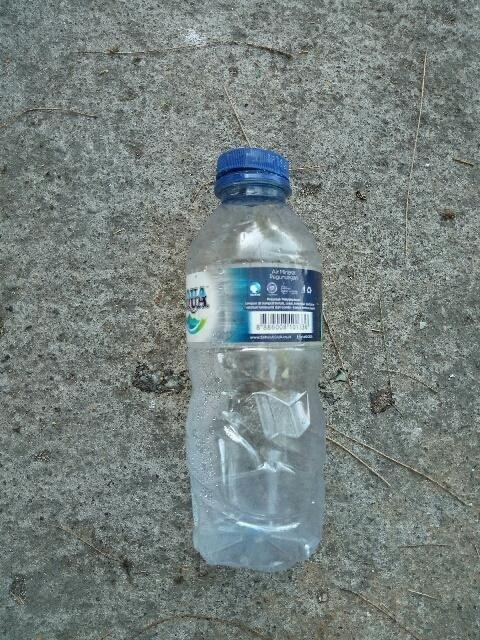bottle-plastic: (178, 143, 330, 581)
